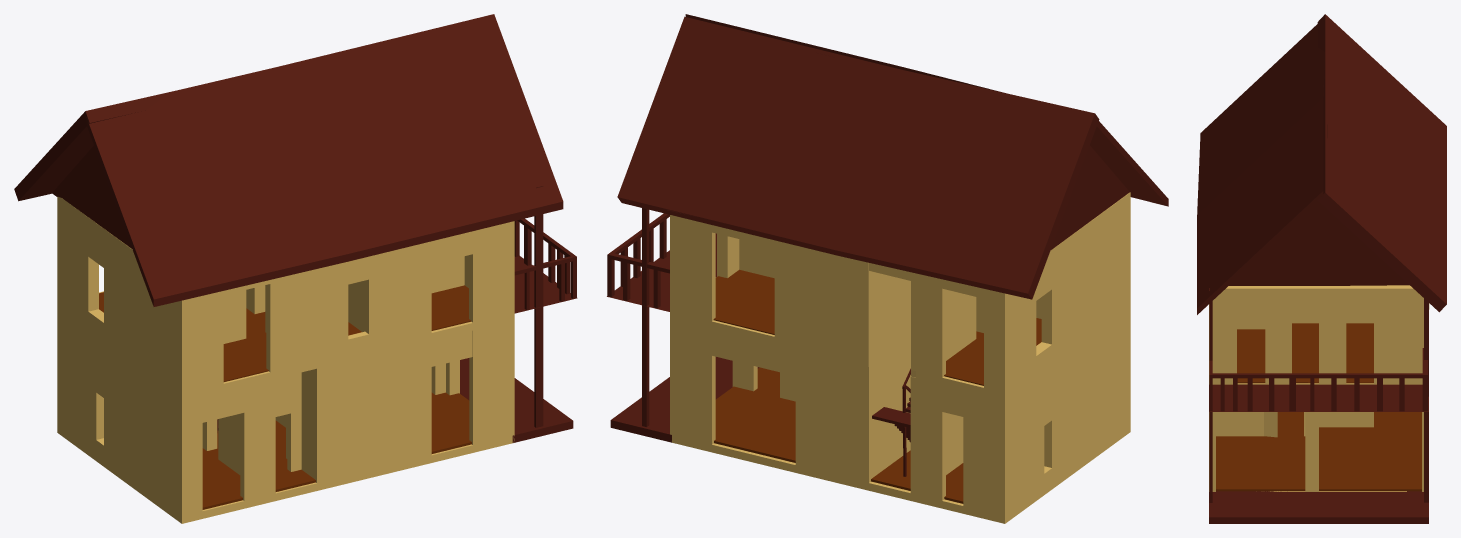
Rendered from home_kopiajoin_v4.fbx.
3 views of the same model, side by side, from view 1: azimuth 30°, elevation 25°; view 2: azimuth 150°, elevation 25°; view 3: azimuth 270°, elevation 25° (orthographic). The views are drawn at different scales.
Parts seen in each view (by area): view 1: Cube.004; view 2: Cube.004; view 3: Cube.004.
Boxes of the visible parts, left/top/right/bottom form: Cube.004: left=14, top=14, right=577, bottom=523; Cube.004: left=607, top=14, right=1168, bottom=523; Cube.004: left=1197, top=14, right=1446, bottom=523.
Size of the model in its own units: 11718 by 9718 by 6701.
